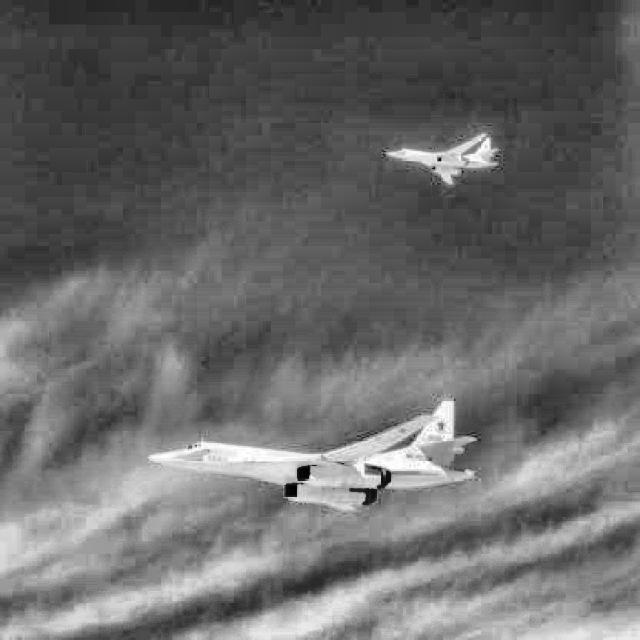Tu160: (147, 398, 476, 512), (384, 132, 498, 185)
